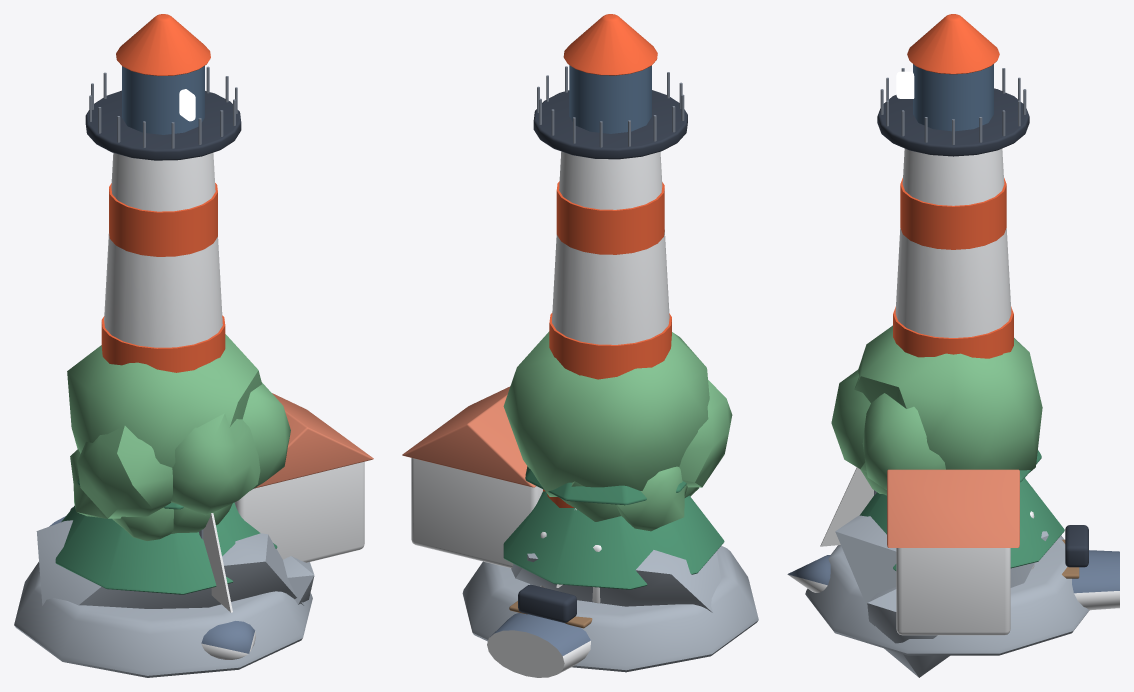
File: nature.glb
The picture shows the model from 3 angles, left to right: view 1: azimuth 30°, elevation 25°; view 2: azimuth 150°, elevation 25°; view 3: azimuth 270°, elevation 25°; orthographic projection. The views are drawn at different scales.
Visible parts, largest first — view 1: lighthouse_body, tree_round_b_body, tree_conifer_b_body, rock_b_body, tree_round_a_body, boat_fishing_body, boat_sail_body; view 2: lighthouse_body, tree_round_b_body, tree_conifer_b_body, boat_fishing_body, rock_b_body, tree_round_a_body; view 3: lighthouse_body, tree_round_b_body, rock_b_body, boat_fishing_body, tree_conifer_b_body, boat_sail_body, lighthouse_lamp.
Part boxes in pixels (x1,y1,x2,y2): lighthouse_body: (14,14,373,677); tree_round_b_body: (67,334,290,518); tree_conifer_b_body: (55,479,277,594); rock_b_body: (36,520,314,608); tree_round_a_body: (70,449,232,540); boat_fishing_body: (49,507,255,659); boat_sail_body: (203,513,232,612); lighthouse_body: (402,14,758,672); tree_round_b_body: (503,331,732,496); tree_conifer_b_body: (503,466,724,589); boat_fishing_body: (487,532,601,677); rock_b_body: (511,550,721,613); tree_round_a_body: (561,466,699,531); lighthouse_body: (805,14,1089,655); tree_round_b_body: (831,325,1042,489); rock_b_body: (835,515,1048,677); boat_fishing_body: (787,487,1119,610); tree_conifer_b_body: (859,450,1064,570); boat_sail_body: (820,467,873,546); lighthouse_lamp: (896,71,914,98).
Bounding box in the file's own units: 7.14 × 14.35 × 7.
